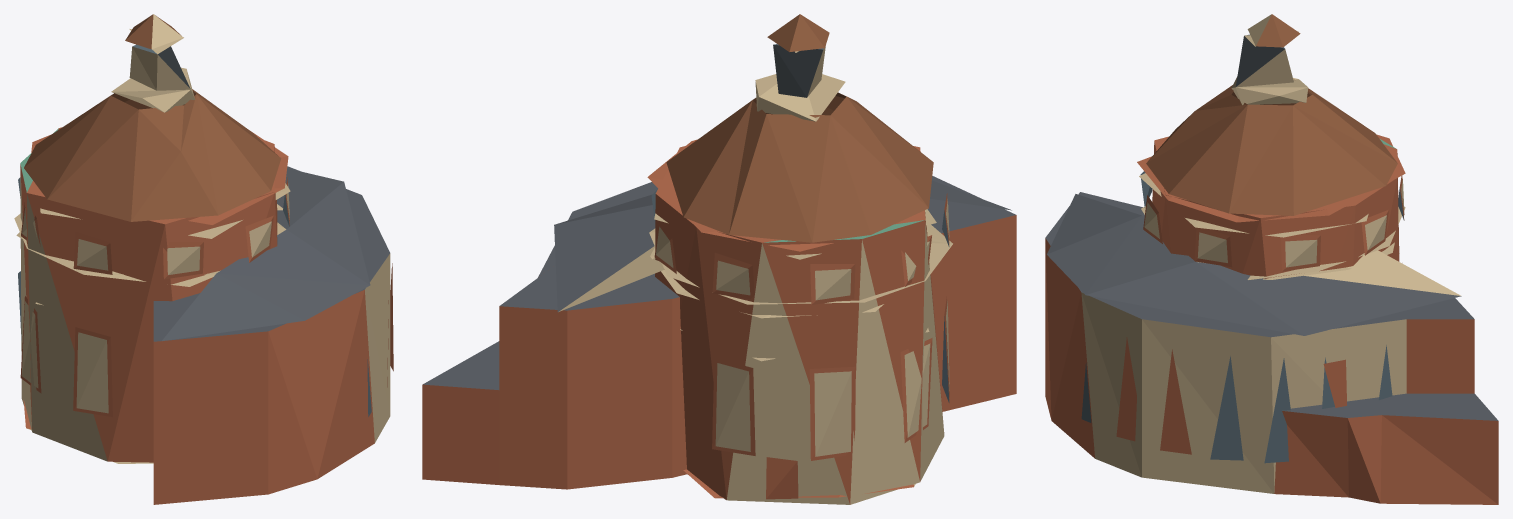
Rendered from ronde-lutherse-kerk.lod2.glb.
3 renders of one model, left to right at view 1: azimuth 30°, elevation 25°; view 2: azimuth 150°, elevation 25°; view 3: azimuth 270°, elevation 25°, orthographic. The views are drawn at different scales.
Visible parts, largest first — view 1: lod2; view 2: lod2; view 3: lod2.
Boxes of the visible parts, left/top/right/bottom form: lod2: left=14, top=14, right=393, bottom=504; lod2: left=422, top=14, right=1016, bottom=504; lod2: left=1045, top=14, right=1498, bottom=504.
Bounding box in the file's own units: 39.99 × 43.3 × 46.44.
